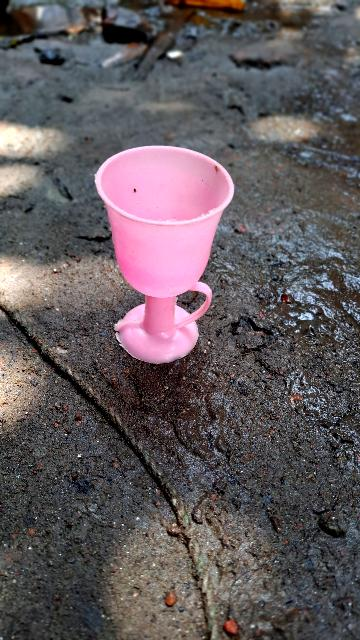hardplastic: (99, 142, 234, 367)
